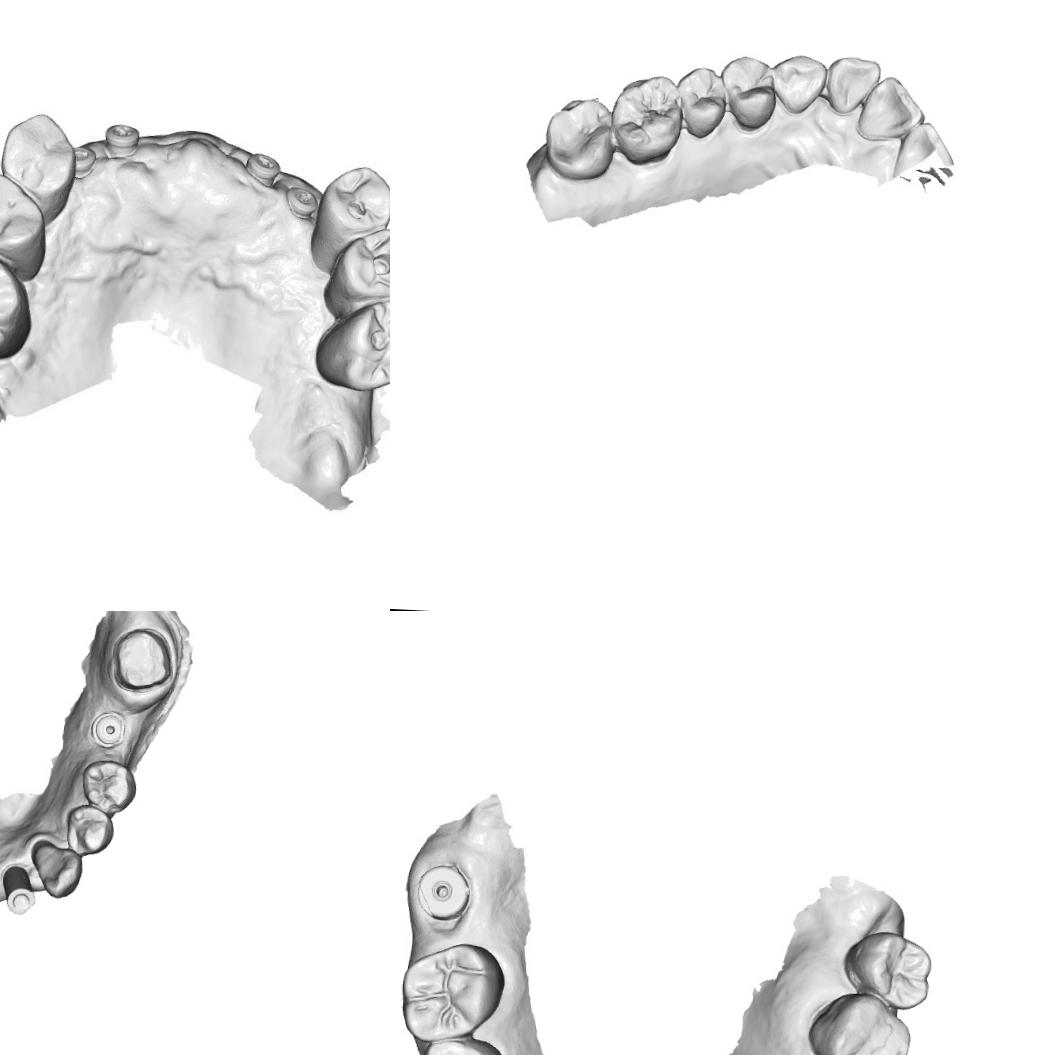canine: (769, 51, 829, 117), (28, 837, 85, 900)
crown: (106, 624, 178, 696)
implant: (412, 860, 474, 920), (0, 862, 38, 916), (88, 708, 128, 750)
implant_minus: (280, 172, 319, 220), (242, 144, 280, 188), (61, 140, 95, 177)
implant_plus: (102, 118, 141, 160)
incisor: (858, 73, 926, 154), (892, 117, 954, 180), (823, 54, 882, 117)
molar: (396, 938, 508, 1046), (837, 926, 934, 1014), (606, 72, 685, 168), (803, 988, 914, 1055), (541, 93, 613, 184), (322, 297, 390, 389), (0, 238, 33, 367)
premolar: (0, 112, 79, 197), (318, 167, 390, 252), (321, 226, 390, 303), (717, 52, 777, 134), (676, 64, 728, 141), (0, 173, 46, 259), (76, 756, 136, 816), (64, 799, 116, 857), (415, 1033, 506, 1055)
